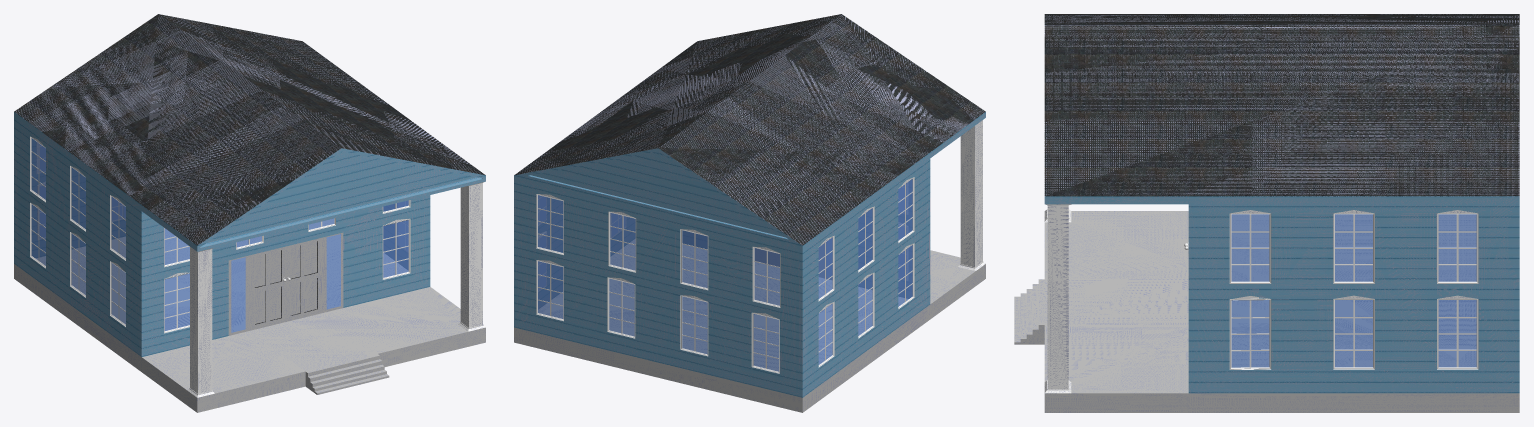
3 renders of one model, left to right at view 1: azimuth 30°, elevation 25°; view 2: azimuth 150°, elevation 25°; view 3: azimuth 270°, elevation 25°, orthographic. The views are drawn at different scales.
Parts seen in each view (by area): view 1: SketchUp (×10), Component_1; view 2: SketchUp (×7), Component_1 (×8); view 3: SketchUp (×6), Component_1 (×6).
Part boxes in pixels (box(x1,y1,x2,y2)): SketchUp (×10): box(14, 14, 485, 412); Component_1: box(382, 218, 410, 279); SketchUp (×7): box(514, 14, 985, 412); Component_1 (×8): box(536, 194, 780, 373); SketchUp (×6): box(1014, 14, 1519, 412); Component_1 (×6): box(1229, 210, 1478, 369).
Size of the model in its own units: 361 by 421 by 274.
